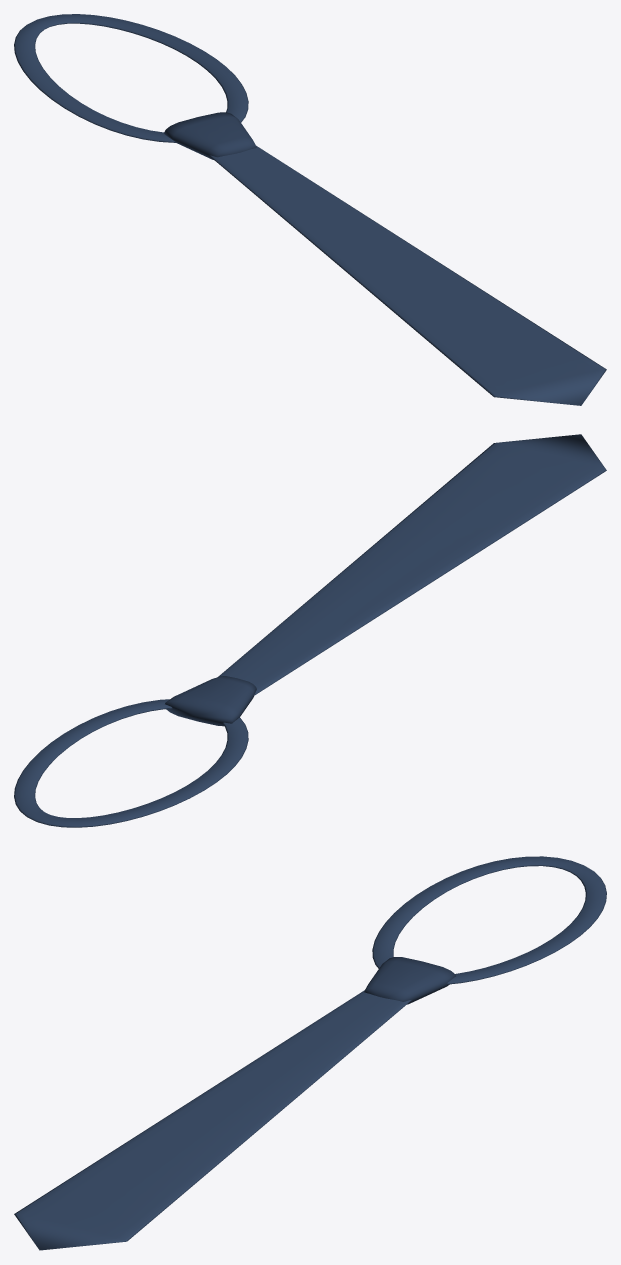
3 views of the same model, one above another, from view 1: azimuth 30°, elevation 25°; view 2: azimuth 150°, elevation 25°; view 3: azimuth 330°, elevation 25° (orthographic).
Parts seen in each view (by area): view 1: Original long pointed front blade, Original flattened cloth neck loop, Original tapered gathered necktie knot; view 2: Original long pointed front blade, Original flattened cloth neck loop, Original tapered gathered necktie knot; view 3: Original long pointed front blade, Original flattened cloth neck loop, Original tapered gathered necktie knot.
Part boxes in pixels (x1,y1,x2,y2): Original long pointed front blade: [208, 146, 606, 405]; Original flattened cloth neck loop: [14, 14, 248, 142]; Original tapered gathered necktie knot: [164, 112, 256, 159]; Original long pointed front blade: [218, 434, 606, 695]; Original flattened cloth neck loop: [14, 699, 248, 827]; Original tapered gathered necktie knot: [165, 676, 256, 726]; Original long pointed front blade: [14, 990, 411, 1250]; Original flattened cloth neck loop: [372, 856, 606, 984]; Original tapered gathered necktie knot: [364, 957, 455, 1004].
Size of the model in its own units: 0.108 by 0.0116 by 0.604.
